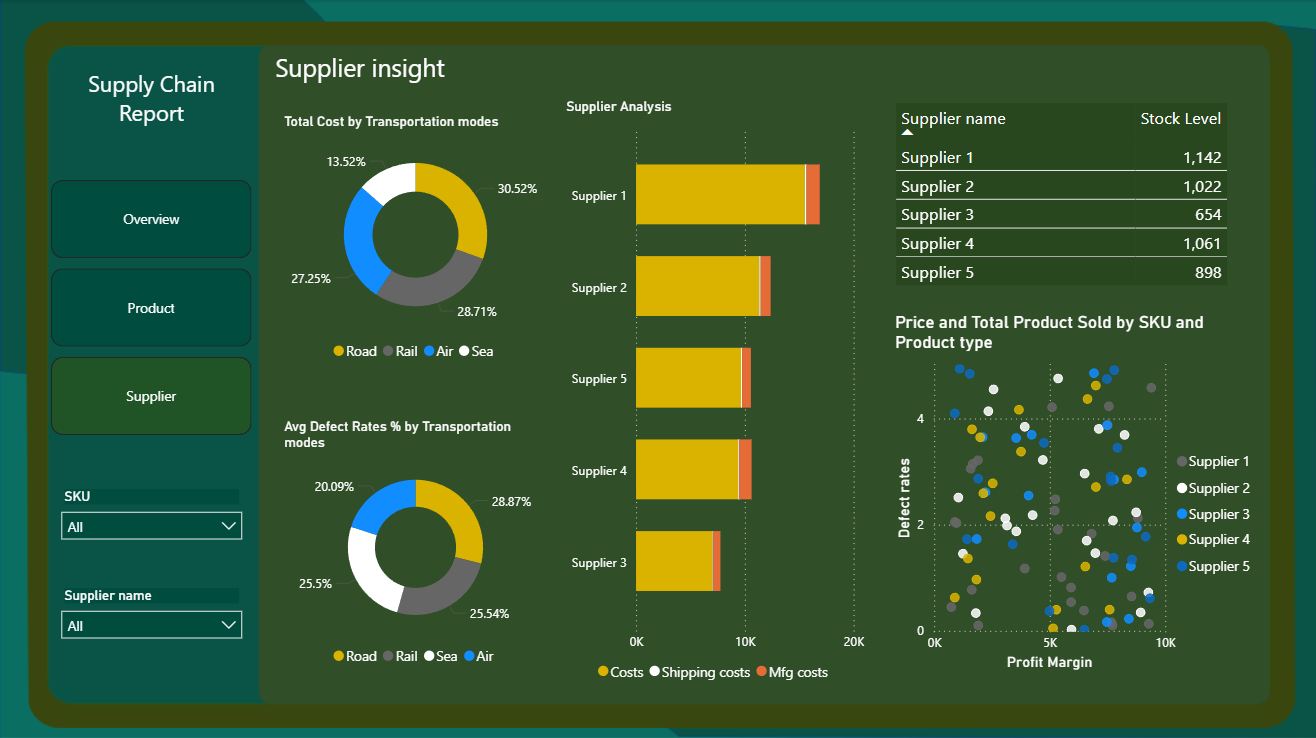

Layout of this report page (visuals, bound fields, positions):
{"tool":"powerbi","page":{"name":"Supplier","canvas":[1280,720],"ordinal":2},"visuals":[{"type":"donutChart","fields":{"Y":["_Measures.Total Cost"],"Category":["supply_chain_data.Transportation modes"]},"box":[271.4,110.9,265.5,249],"z":0},{"type":"pageNavigator","box":[49.6,175.1,195.5,248],"z":0,"group":"g1"},{"type":"donutChart","fields":{"Y":["_Measures.Avg Defect Rates %"],"Category":["supply_chain_data.Transportation modes"]},"box":[271.4,407.5,265.5,249],"z":1000},{"type":"slicer","fields":{"Values":["supply_chain_data.SKU"]},"box":[49.6,470.8,195.5,86.6],"z":1000,"group":"g1"},{"type":"barChart","title":"Supplier Analysis","fields":{"Category":["supply_chain_data.Supplier name"],"Y":["Sum(supply_chain_data.Costs)","Sum(supply_chain_data.Shipping costs)","Sum(supply_chain_data.Mfg costs)"]},"box":[545.7,96.3,299.6,575.8],"z":2000},{"type":"slicer","fields":{"Values":["supply_chain_data.Supplier name"]},"box":[49.6,567.1,195.5,86.6],"z":2000,"group":"g1"},{"type":"textbox","box":[49.6,61.3,195.5,77.8],"z":3000,"group":"g1"},{"type":"tableEx","fields":{"Values":["supply_chain_data.Supplier name","_Measures.Stock Level"]},"box":[865.7,95.3,339.5,193.6],"z":3000},{"type":"scatterChart","title":"Price and Total Product Sold by SKU and Product type","fields":{"Y":["supply_chain_data.Defect rates"],"X":["Sum(supply_chain_data.Profit Margin)"],"Series":["supply_chain_data.Supplier name"]},"box":[865.7,303.5,364.7,353.1],"z":4000},{"type":"textbox","box":[262.6,43.8,314.2,54.5],"z":5000},{"type":"group","id":"g1","title":"Group 1","box":[49.6,61.3,195.5,592.3],"z":6000}]}

Visuals, with their boxes in screenshot pixels (x1, y1, x2, y2), scaled from the page's 1280x720 canvas onto the 1316x738 screenshot:
donutChart - _Measures.Total Cost x supply_chain_data.Transportation modes: {"x1": 279, "y1": 114, "x2": 552, "y2": 369}
pageNavigator: {"x1": 51, "y1": 179, "x2": 252, "y2": 434}
donutChart - _Measures.Avg Defect Rates % x supply_chain_data.Transportation modes: {"x1": 279, "y1": 418, "x2": 552, "y2": 673}
slicer - supply_chain_data.SKU: {"x1": 51, "y1": 483, "x2": 252, "y2": 571}
"Supplier Analysis" barChart: {"x1": 561, "y1": 99, "x2": 869, "y2": 689}
slicer - supply_chain_data.Supplier name: {"x1": 51, "y1": 581, "x2": 252, "y2": 670}
textbox: {"x1": 51, "y1": 63, "x2": 252, "y2": 143}
tableEx - supply_chain_data.Supplier name x _Measures.Stock Level: {"x1": 890, "y1": 98, "x2": 1239, "y2": 296}
"Price and Total Product Sold by SKU and Product type" scatterChart: {"x1": 890, "y1": 311, "x2": 1265, "y2": 673}
textbox: {"x1": 270, "y1": 45, "x2": 593, "y2": 101}
"Group 1" group: {"x1": 51, "y1": 63, "x2": 252, "y2": 670}
